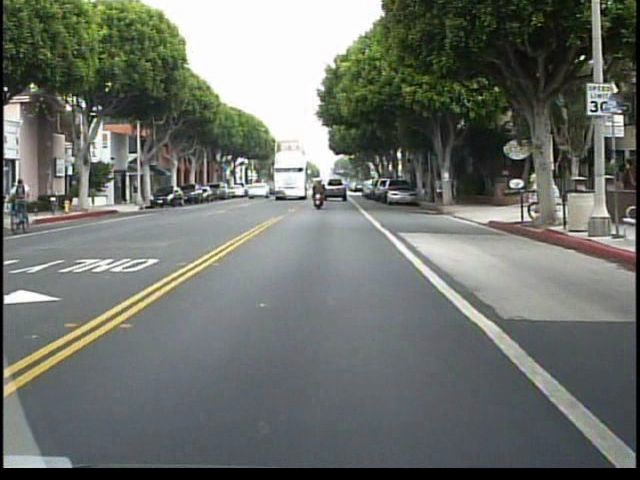person: (13, 177, 37, 230), (310, 175, 328, 215), (430, 173, 442, 205), (453, 172, 462, 202), (445, 172, 453, 200)
